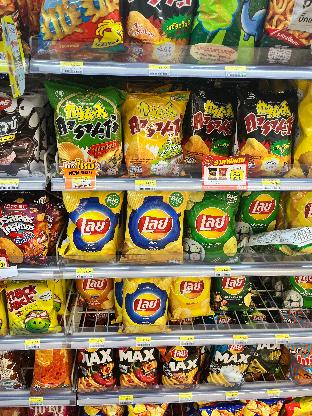Others: (48, 81, 126, 173), (120, 85, 186, 175), (120, 1, 208, 64), (239, 85, 297, 175), (36, 0, 128, 56), (187, 1, 265, 64), (57, 186, 122, 260), (181, 194, 246, 260), (128, 187, 184, 261), (190, 90, 236, 178), (1, 194, 60, 262), (0, 278, 64, 340), (1, 91, 48, 174), (262, 0, 312, 60), (122, 272, 172, 332), (231, 187, 283, 239), (73, 348, 125, 396), (27, 346, 79, 392), (159, 340, 206, 390), (211, 274, 259, 320), (171, 277, 218, 323), (280, 186, 312, 252), (116, 346, 160, 392), (74, 267, 114, 315), (207, 346, 253, 386), (282, 277, 312, 315), (288, 342, 312, 380)
